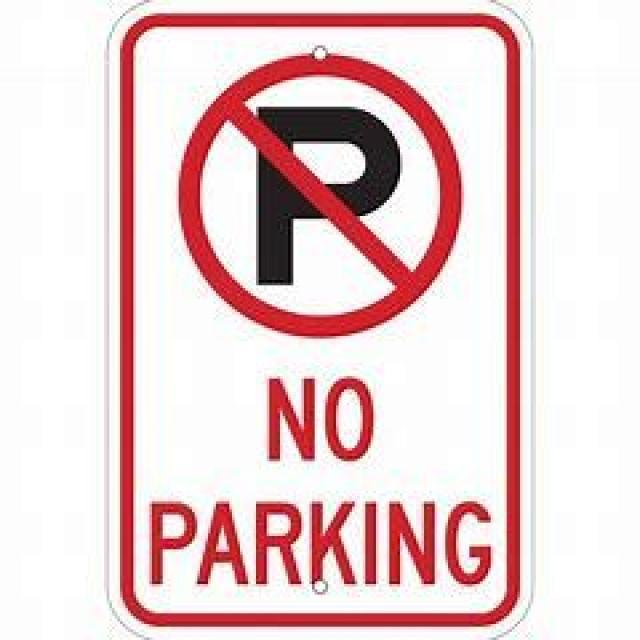no parking: (173, 48, 467, 339)
